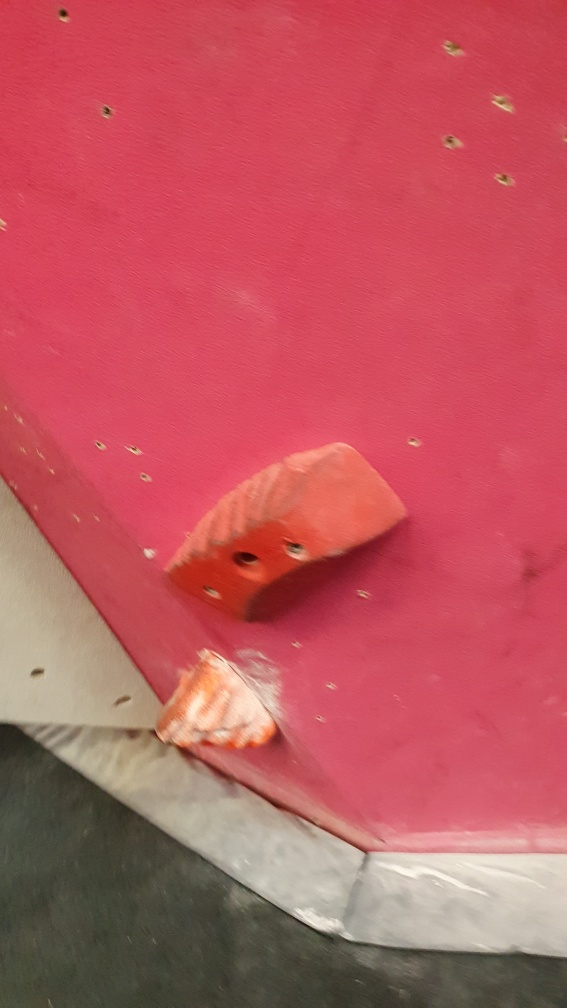Crimp: (161, 432, 412, 632)
Jug: (148, 646, 284, 756)
